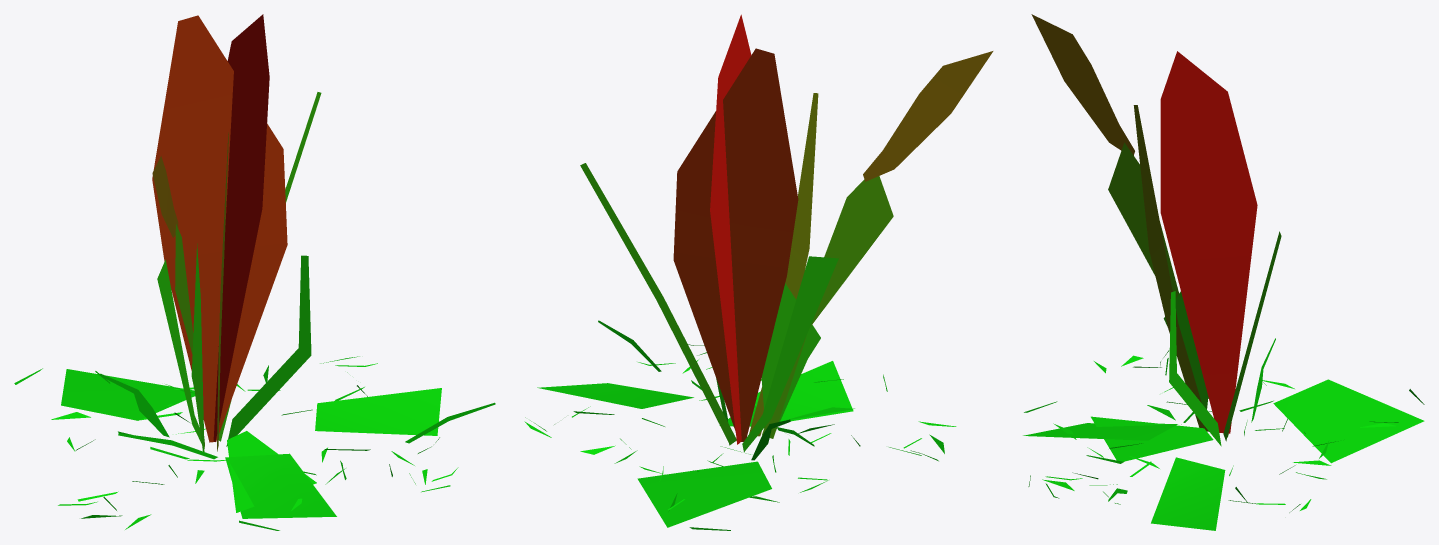
Rendered from Var11_LOD3.fbx.
3 views of the same model, side by side, from view 1: azimuth 30°, elevation 25°; view 2: azimuth 150°, elevation 25°; view 3: azimuth 270°, elevation 25° (orthographic). The views are drawn at different scales.
Parts seen in each view (by area): view 1: _s6r0_Var11_LOD3; view 2: _s6r0_Var11_LOD3; view 3: _s6r0_Var11_LOD3.
Part boxes in pixels (left/top/right/bottom): _s6r0_Var11_LOD3: left=14, top=14, right=495, bottom=530; _s6r0_Var11_LOD3: left=524, top=14, right=993, bottom=530; _s6r0_Var11_LOD3: left=1023, top=14, right=1424, bottom=530.
Bounding box in the file's own units: 26.35 × 27.59 × 24.98.
